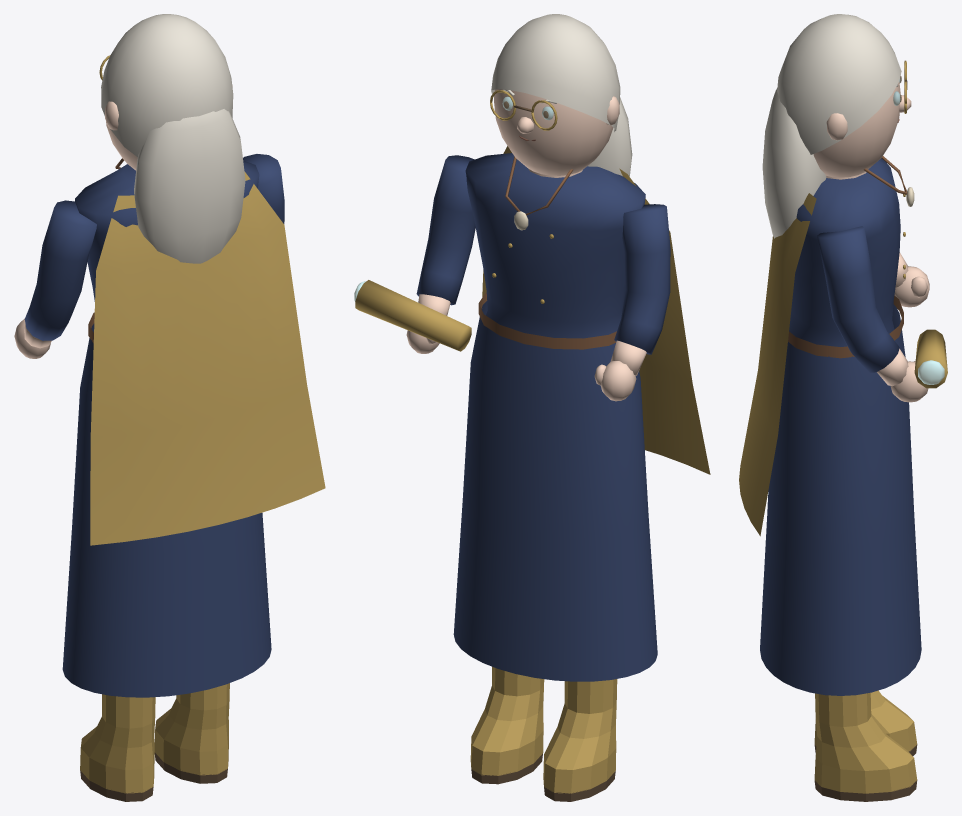
File: SM_NPC_AURORA.glb
The picture shows the model from 3 angles, left to right: view 1: azimuth 30°, elevation 25°; view 2: azimuth 150°, elevation 25°; view 3: azimuth 270°, elevation 25°; orthographic projection. The views are drawn at different scales.
Parts seen in each view (by area): view 1: SM_NPC_AURORA_BODY, SM_NPC_AURORA_HAIR, SM_NPC_AURORA_ARM_L, SM_NPC_AURORA_LEG_L, SM_NPC_AURORA_LEG_R, SM_NPC_AURORA_ARM_R, SM_NPC_AURORA_HEAD; view 2: SM_NPC_AURORA_BODY, SM_NPC_AURORA_HAIR, SM_NPC_AURORA_ARM_R, SM_NPC_AURORA_ARM_L, SM_NPC_AURORA_LEG_L, SM_NPC_AURORA_HEAD, SM_NPC_AURORA_LEG_R; view 3: SM_NPC_AURORA_BODY, SM_NPC_AURORA_HAIR, SM_NPC_AURORA_ARM_R, SM_NPC_AURORA_LEG_R, SM_NPC_AURORA_HEAD, SM_NPC_AURORA_LEG_L, SM_NPC_AURORA_ARM_L.
Part boxes in pixels (box(x1,y1,x2,y2)): SM_NPC_AURORA_BODY: box(62, 158, 325, 697); SM_NPC_AURORA_HAIR: box(101, 14, 245, 263); SM_NPC_AURORA_ARM_L: box(14, 200, 96, 358); SM_NPC_AURORA_LEG_L: box(80, 694, 155, 801); SM_NPC_AURORA_LEG_R: box(154, 683, 229, 783); SM_NPC_AURORA_ARM_R: box(243, 154, 284, 223); SM_NPC_AURORA_HEAD: box(99, 55, 232, 170); SM_NPC_AURORA_BODY: box(453, 146, 710, 681); SM_NPC_AURORA_HAIR: box(491, 14, 632, 176); SM_NPC_AURORA_ARM_R: box(354, 155, 475, 353); SM_NPC_AURORA_ARM_L: box(594, 204, 670, 401); SM_NPC_AURORA_LEG_L: box(543, 679, 617, 801); SM_NPC_AURORA_HEAD: box(490, 89, 619, 175); SM_NPC_AURORA_LEG_R: box(470, 666, 544, 784); SM_NPC_AURORA_BODY: box(739, 156, 921, 695); SM_NPC_AURORA_HAIR: box(762, 14, 901, 238); SM_NPC_AURORA_ARM_R: box(817, 226, 947, 402); SM_NPC_AURORA_LEG_R: box(814, 692, 917, 801); SM_NPC_AURORA_HEAD: box(813, 60, 911, 177); SM_NPC_AURORA_LEG_L: box(814, 690, 917, 755); SM_NPC_AURORA_ARM_L: box(894, 252, 929, 307).
Size of the model in its own units: 0.6901 by 1.81 by 0.4561.
